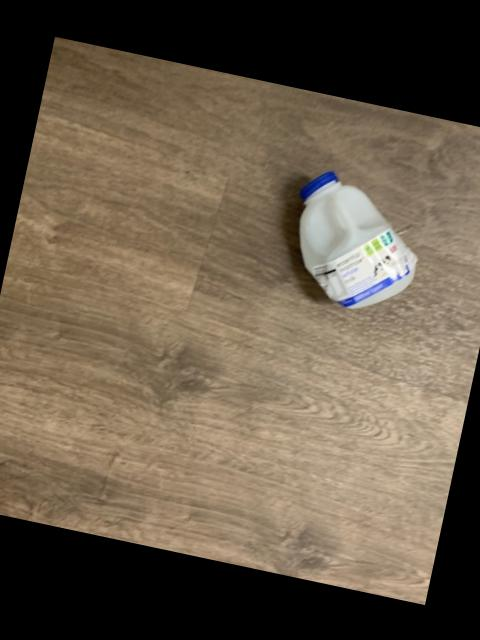plastic: (302, 169, 419, 306)
